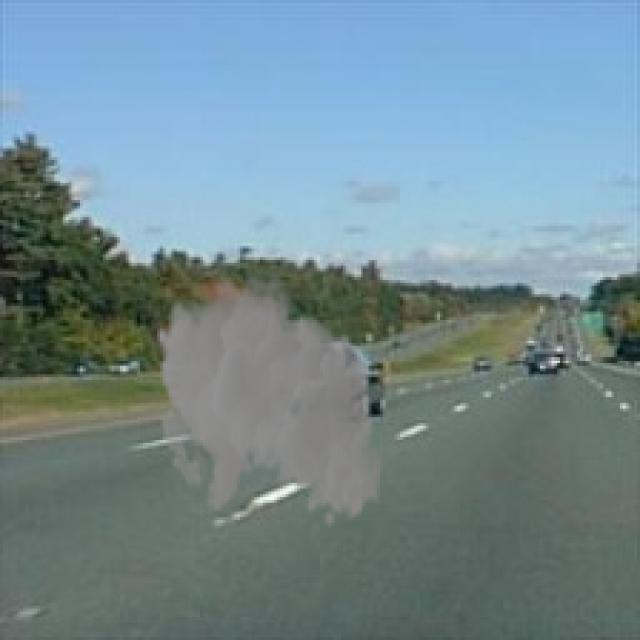smoke: (154, 263, 383, 528)
